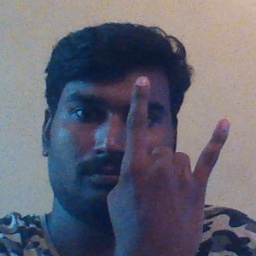V: (105, 72, 234, 256)
